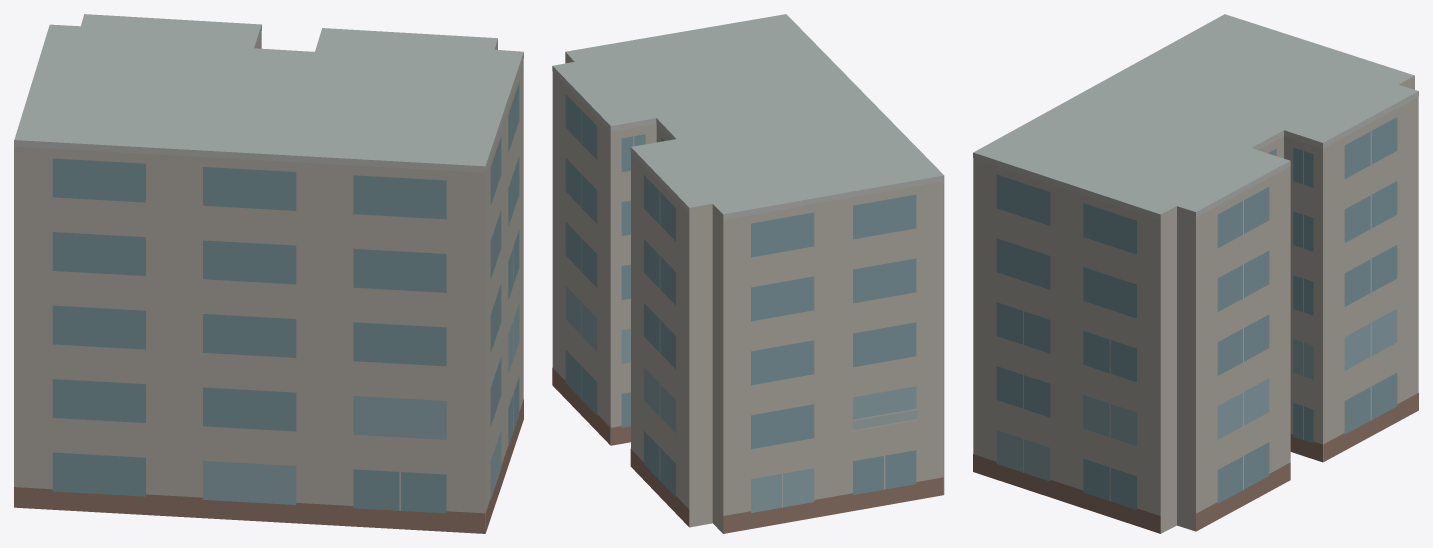
The model's file is survey-upis-32657015.glb.
3 renders of one model, left to right at view 1: azimuth 30°, elevation 25°; view 2: azimuth 150°, elevation 25°; view 3: azimuth 270°, elevation 25°, orthographic. The views are drawn at different scales.
Visible parts, largest first — view 1: survey-upis-32657015.tmp; view 2: survey-upis-32657015.tmp; view 3: survey-upis-32657015.tmp.
Part boxes in pixels (x1,y1,x2,y2): survey-upis-32657015.tmp: [14, 14, 523, 533]; survey-upis-32657015.tmp: [552, 14, 944, 533]; survey-upis-32657015.tmp: [973, 14, 1418, 533].
Size of the model in its own units: 18.72 by 13.9 by 17.58.
